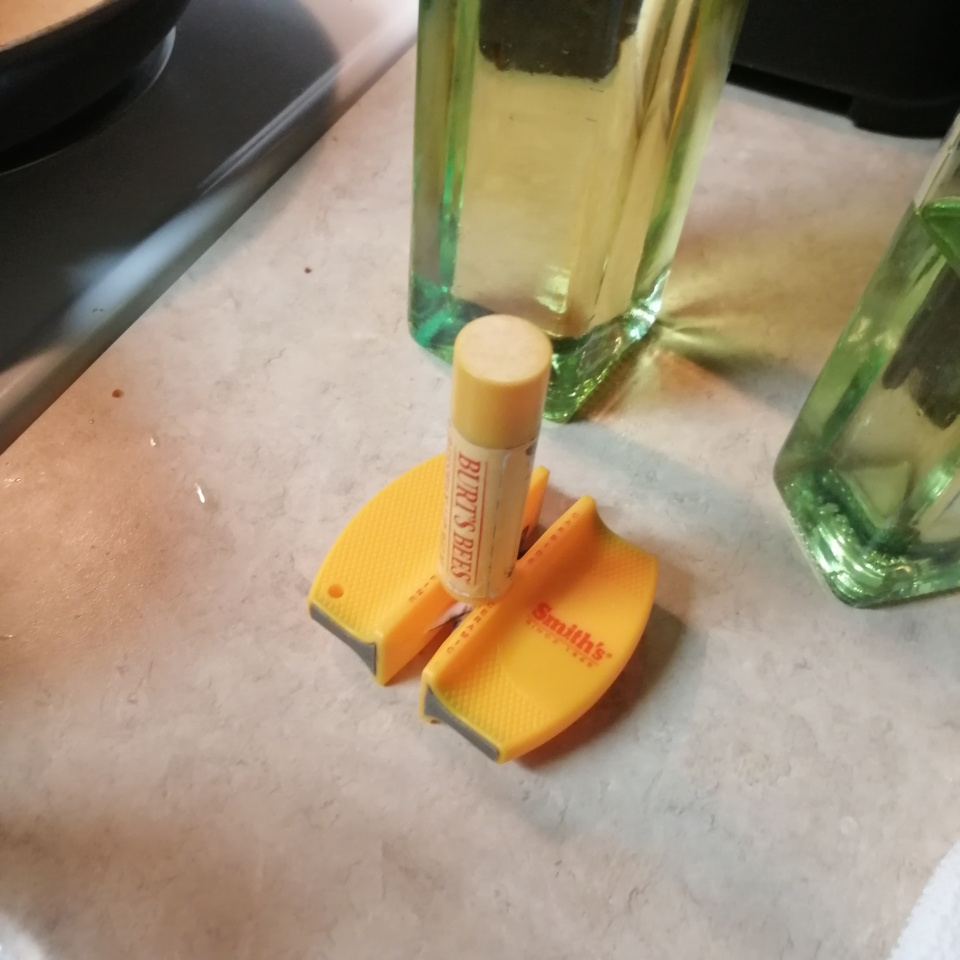chapstick: (436, 311, 554, 607)
